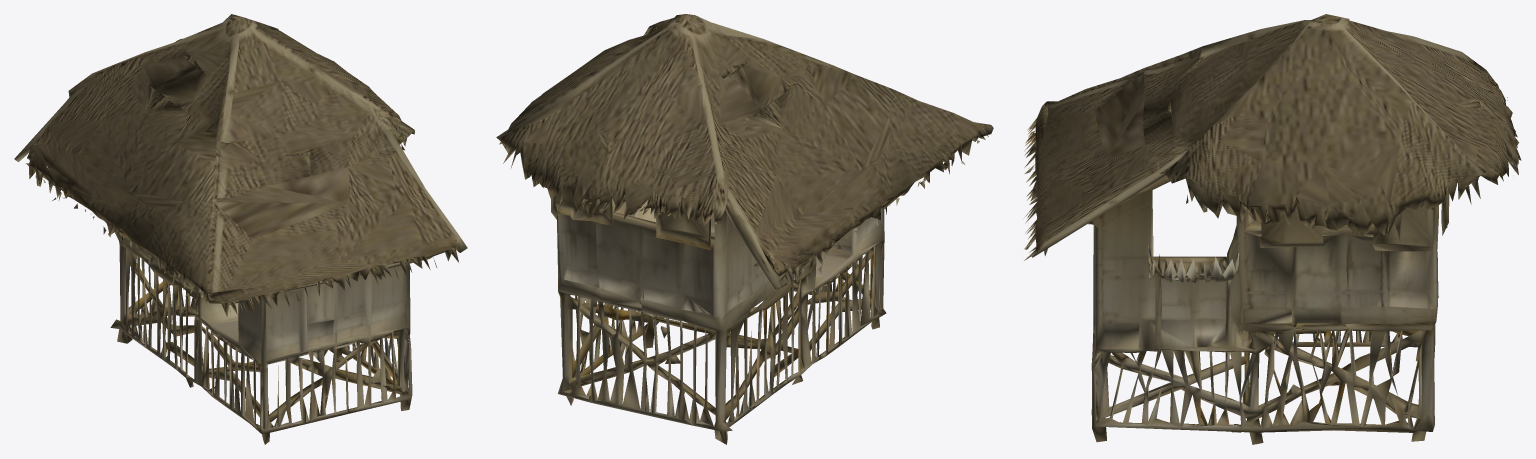
File: finalizedbahaykubo2.fbx
3 renders of one model, left to right at view 1: azimuth 30°, elevation 25°; view 2: azimuth 150°, elevation 25°; view 3: azimuth 270°, elevation 25°, orthographic. The views are drawn at different scales.
Parts seen in each view (by area): view 1: tripo_node_f54435fb; view 2: tripo_node_f54435fb; view 3: tripo_node_f54435fb.
Boxes of the visible parts, bbox=[...] form: tripo_node_f54435fb: bbox=[14, 14, 467, 444]; tripo_node_f54435fb: bbox=[496, 14, 993, 444]; tripo_node_f54435fb: bbox=[1024, 14, 1521, 444].
Bounding box in the file's own units: 0.7723 × 0.8681 × 1.
1 material, 1 textured.
